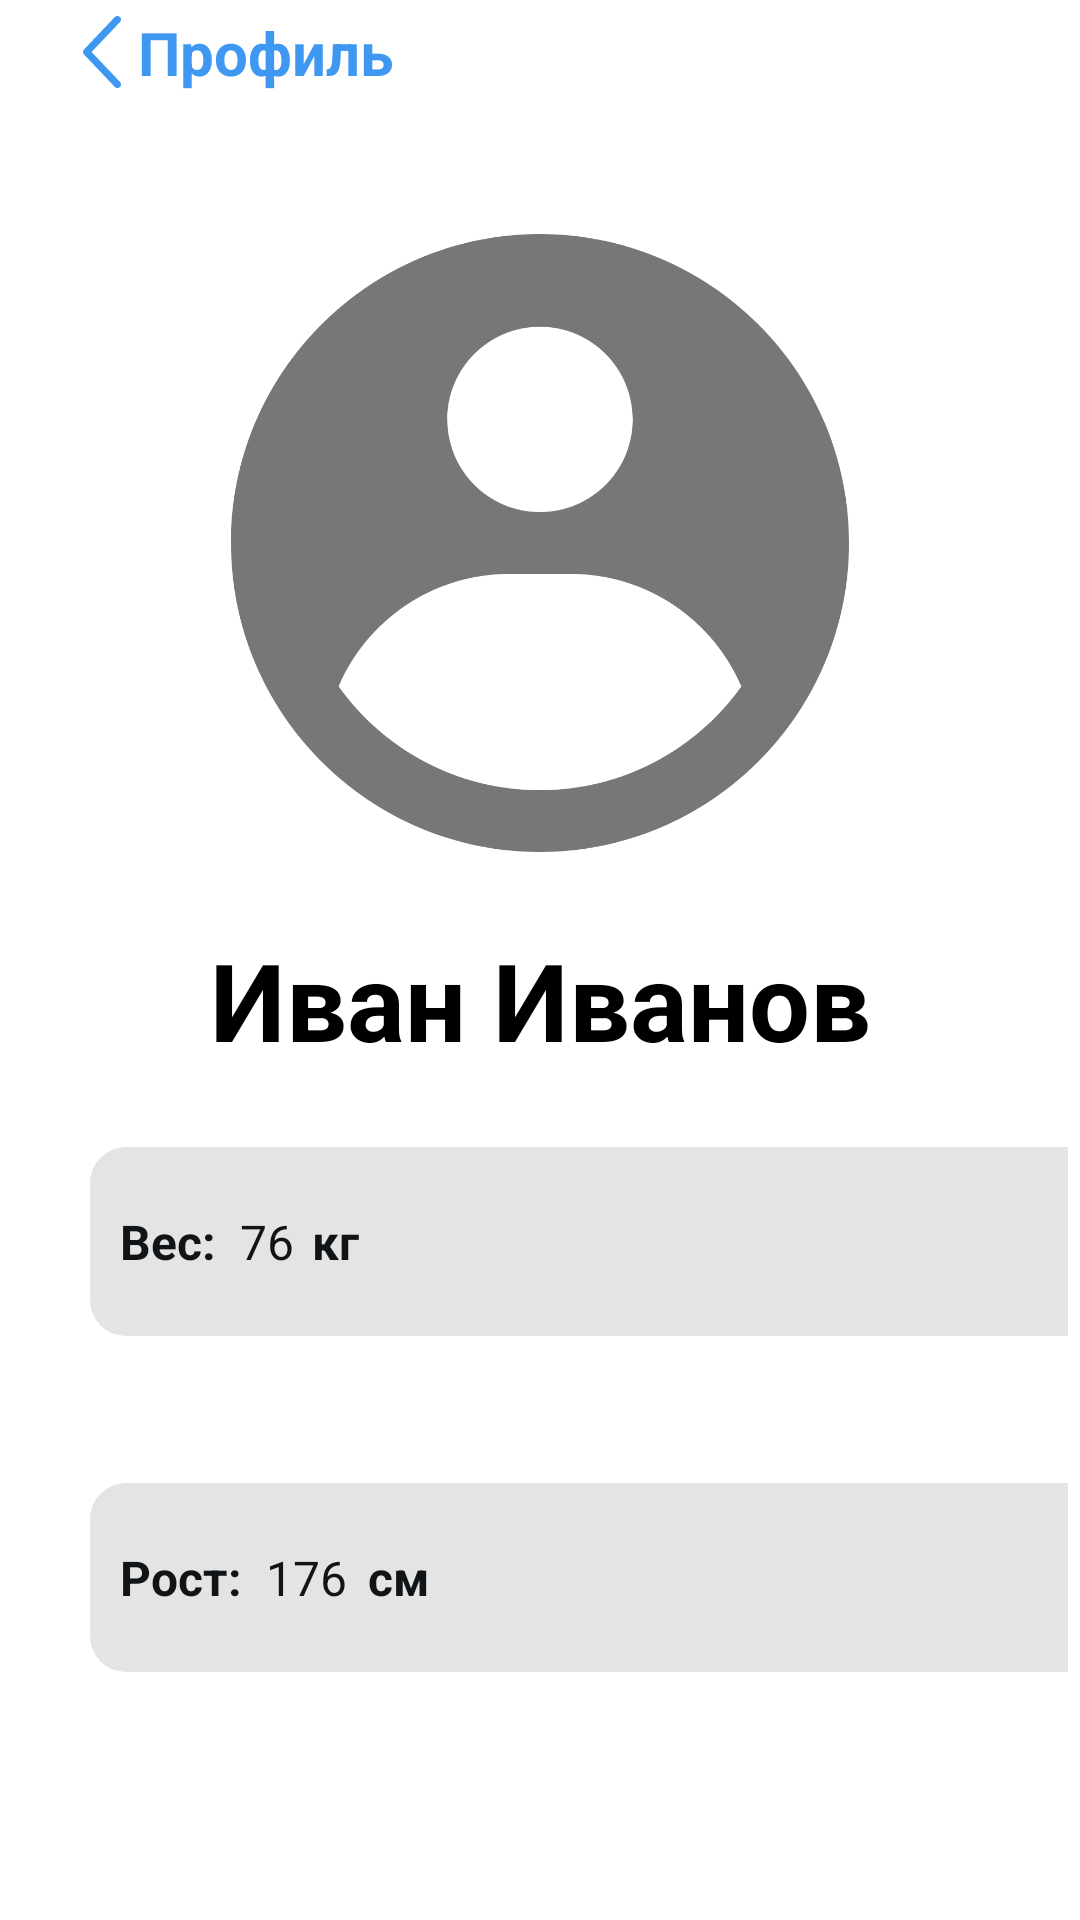

Named icons in this screenshot (1080×1920) and their bounding boxes, (x1, y1, x2, y2):
Back button: (83, 16, 121, 88)
